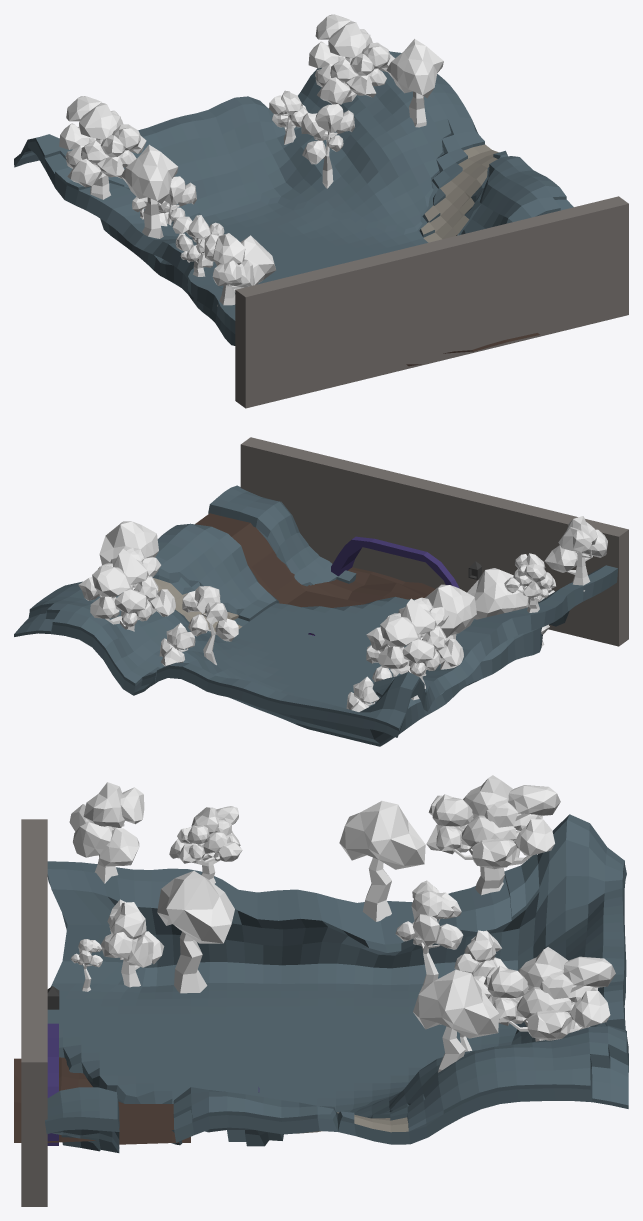
The model's file is CENA4- CENAFLORESTA-1702.fbx.
The picture shows the model from 3 angles, top to bottom: view 1: azimuth 30°, elevation 25°; view 2: azimuth 150°, elevation 25°; view 3: azimuth 270°, elevation 25°; orthographic projection. The views are drawn at different scales.
Visible parts, largest first — view 1: Ground, Wall, Tree.003, Tree.013, Tree.010, Tree.014, Tree.011, Tree.001, Tree.002, Tree.012, Tree.008, Tree.009; view 2: Ground, Wall, Water, Tree.013, Tree.003, Tree.001, Tree.011, Tree.009, Tree.010, Tree.002, Tree.014, Tree.012 (+2 smaller); view 3: Ground, Wall, Tree.003, Tree.013, Tree.009, Tree.010, Tree.001, Tree.014, Water, Tree.002, Tree.007, Tree.008 (+2 smaller).
Part boxes in pixels (<box>): Ground: <box>14,51,573,345</box>; Wall: <box>235,196,628,408</box>; Tree.003: <box>59,96,146,199</box>; Tree.013: <box>308,14,394,104</box>; Tree.010: <box>121,144,178,238</box>; Tree.014: <box>386,39,443,127</box>; Tree.011: <box>301,104,354,188</box>; Tree.001: <box>204,233,254,306</box>; Tree.002: <box>172,215,224,276</box>; Tree.012: <box>269,90,308,144</box>; Tree.008: <box>158,176,196,226</box>; Tree.009: <box>235,235,275,292</box>; Ground: <box>14,485,617,746</box>; Wall: <box>240,437,628,646</box>; Water: <box>195,513,435,607</box>; Tree.013: <box>78,547,175,631</box>; Tree.003: <box>366,597,463,700</box>; Tree.001: <box>544,516,607,591</box>; Tree.011: <box>182,586,238,665</box>; Tree.009: <box>467,568,528,619</box>; Tree.010: <box>425,584,476,669</box>; Tree.002: <box>504,553,555,612</box>; Tree.014: <box>99,521,158,565</box>; Tree.012: <box>159,623,195,666</box>; Ground: <box>45,814,628,1152</box>; Wall: <box>21,819,58,1206</box>; Tree.003: <box>426,775,560,895</box>; Tree.013: <box>484,947,615,1041</box>; Tree.009: <box>157,870,234,993</box>; Tree.010: <box>339,801,425,921</box>; Tree.001: <box>69,782,144,883</box>; Tree.014: <box>413,969,499,1072</box>; Water: <box>14,1057,190,1144</box>; Tree.002: <box>169,806,242,883</box>; Tree.007: <box>100,899,164,987</box>; Tree.008: <box>395,890,463,985</box>.
Bounding box in the file's own units: 8684 × 3561 × 9007.
